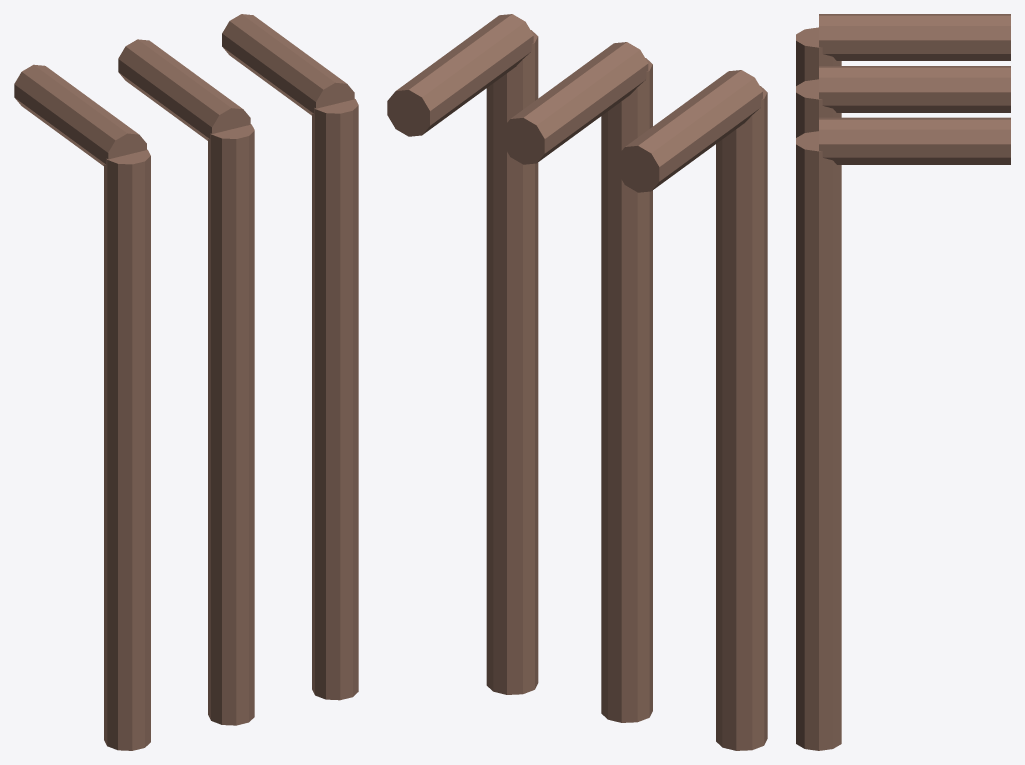
Rendered from BSM-004.glb.
The picture shows the model from 3 angles, left to right: view 1: azimuth 30°, elevation 25°; view 2: azimuth 150°, elevation 25°; view 3: azimuth 270°, elevation 25°; orthographic projection. The views are drawn at different scales.
Parts seen in each view (by area): view 1: 000_Pipe_section_0, 002_Pipe_section_1, 004_Pipe_section_2, 001_Elbow_0, 003_Elbow_1, 005_Elbow_2; view 2: 000_Pipe_section_0, 004_Pipe_section_2, 002_Pipe_section_1, 001_Elbow_0, 005_Elbow_2, 003_Elbow_1; view 3: 004_Pipe_section_2, 005_Elbow_2, 001_Elbow_0, 003_Elbow_1, 002_Pipe_section_1, 000_Pipe_section_0.
Boxes of the visible parts, box(x1,y1,x2,y2) form: 000_Pipe_section_0: box(104, 149, 150, 750); 002_Pipe_section_1: box(208, 124, 254, 725); 004_Pipe_section_2: box(312, 99, 358, 700); 001_Elbow_0: box(14, 64, 146, 165); 003_Elbow_1: box(118, 39, 250, 140); 005_Elbow_2: box(222, 14, 354, 115); 000_Pipe_section_0: box(716, 86, 767, 750); 004_Pipe_section_2: box(486, 30, 538, 694); 002_Pipe_section_1: box(601, 58, 652, 722); 001_Elbow_0: box(616, 70, 762, 192); 005_Elbow_2: box(387, 14, 533, 136); 003_Elbow_1: box(502, 42, 648, 164); 004_Pipe_section_2: box(796, 131, 841, 750); 005_Elbow_2: box(819, 117, 1010, 164); 001_Elbow_0: box(819, 14, 1010, 60); 003_Elbow_1: box(819, 66, 1010, 112); 002_Pipe_section_1: box(796, 79, 841, 137); 000_Pipe_section_0: box(796, 27, 841, 85).
Size of the model in its own units: 0.55 by 1.28 by 0.4028.
